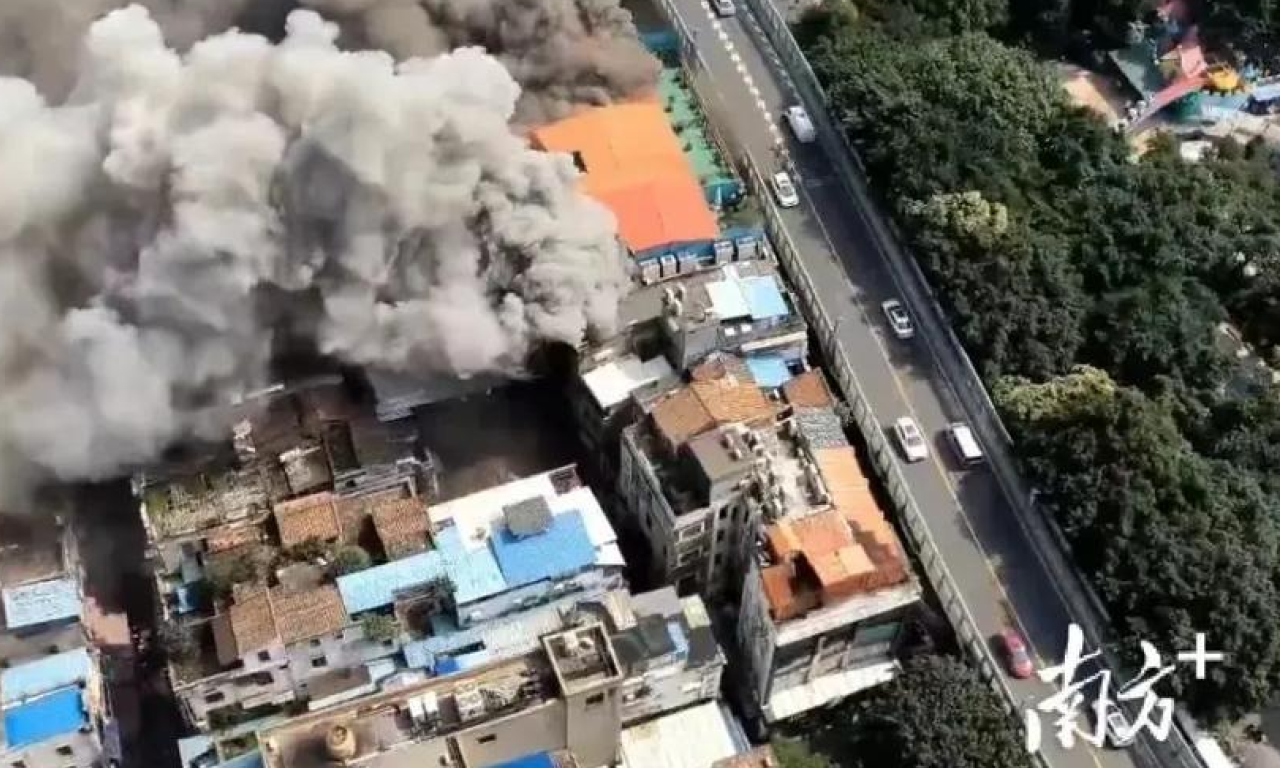fire: (8, 10, 674, 486)
